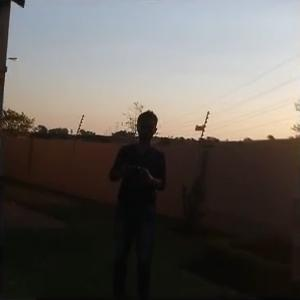follow: (102, 108, 171, 296)
